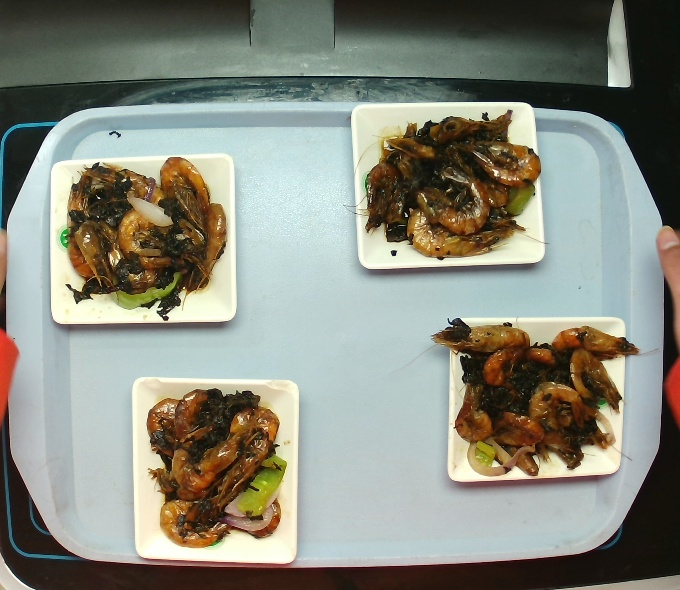wcq-GanCaiXia: (348, 104, 557, 269), (443, 325, 619, 480), (60, 151, 220, 317), (147, 386, 279, 541)
